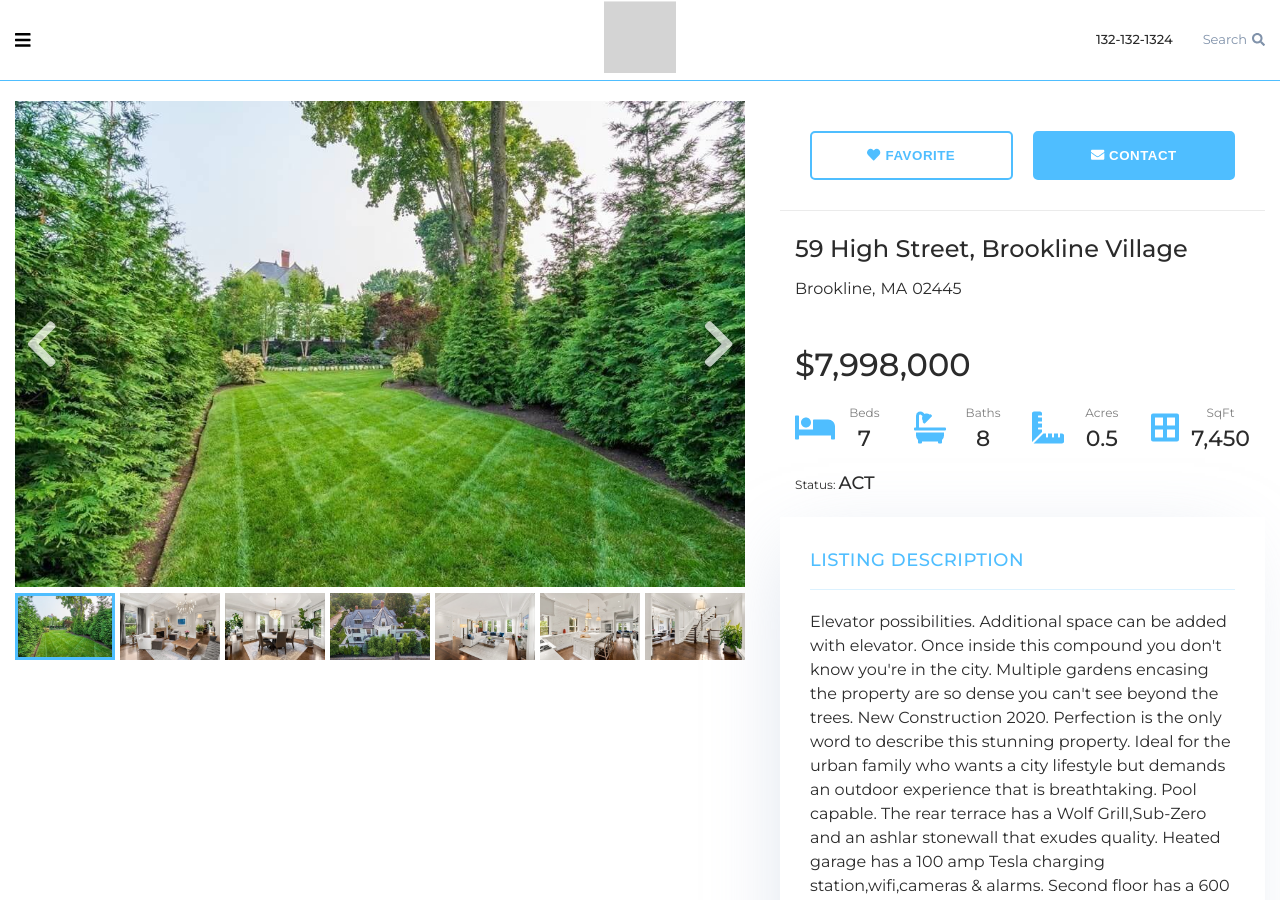
Test: Modal component › should properly open a "Contact us" modal
The image size is (1280, 900).
Click the button with class "toolbar__btn-contact". click: (1134, 155)
box: [1032,130,1235,180]
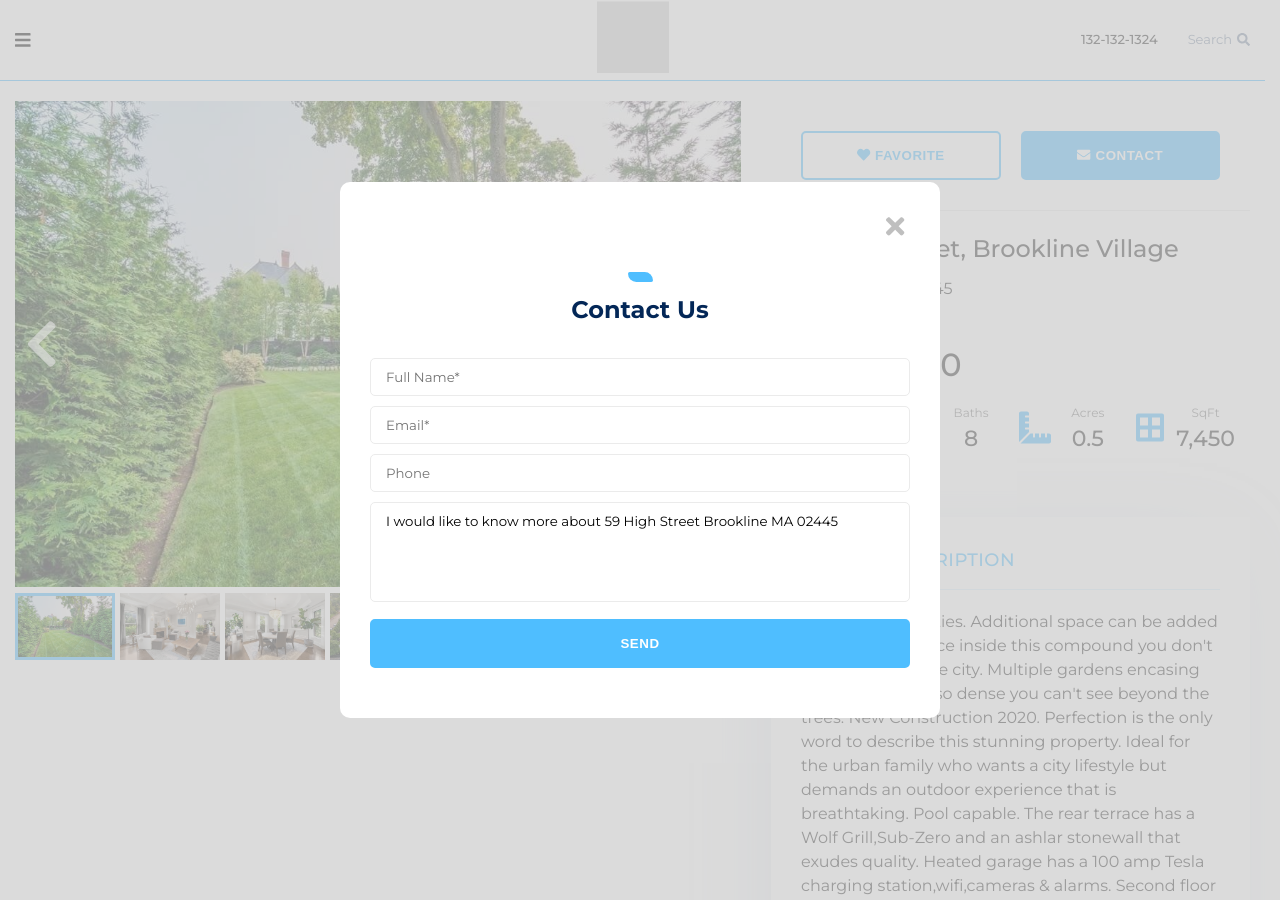
Now the form with id "modal-contact" is shown, box [370,358,910,668]
Click the button with class "modal__close". click: (895, 226)
box: [880,212,910,241]
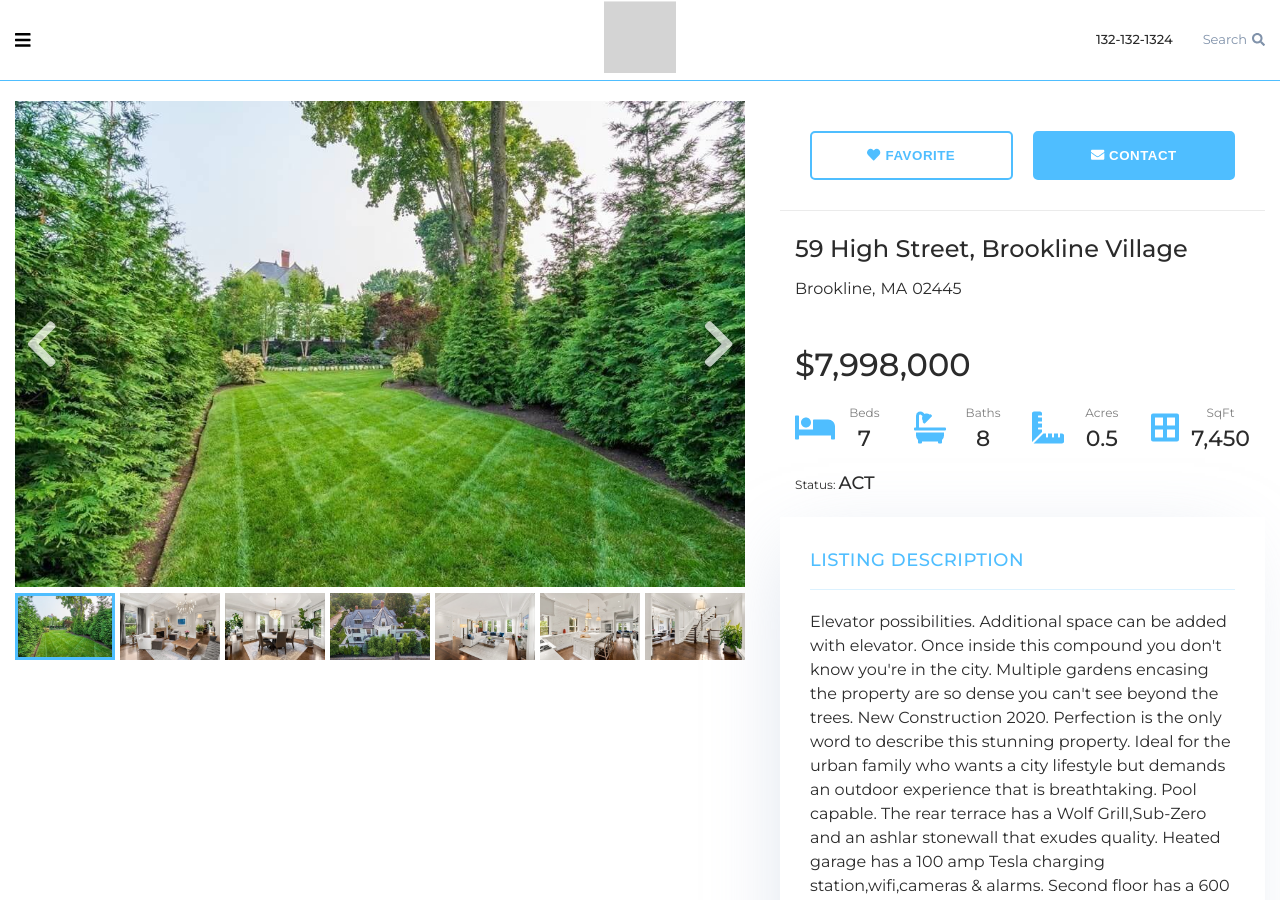
Now the element with id "contact-modal" is gone
